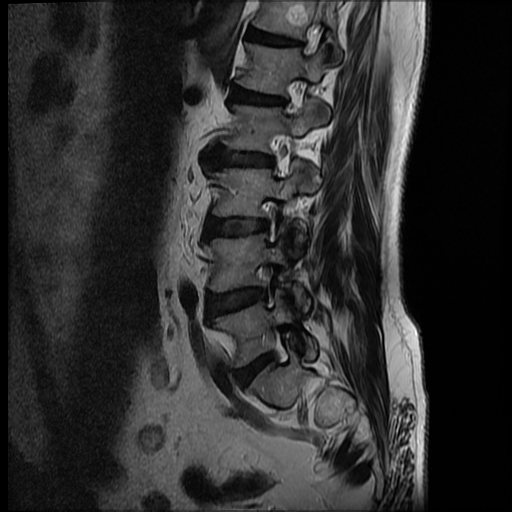LFS0: (252, 320, 299, 378), (250, 184, 289, 251), (258, 124, 300, 185), (270, 68, 312, 119)
LFS1: (248, 251, 289, 314)
